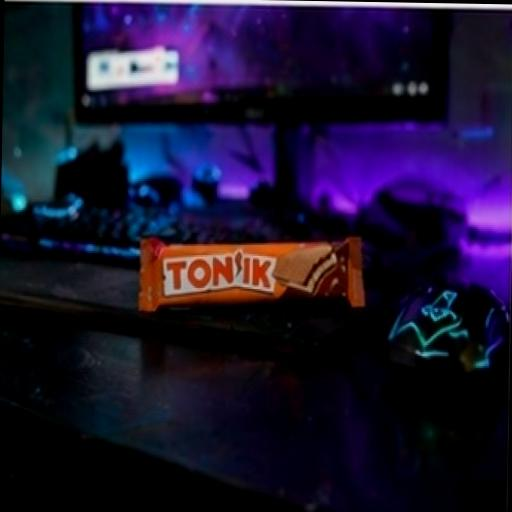tonik: (87, 151, 407, 369)
